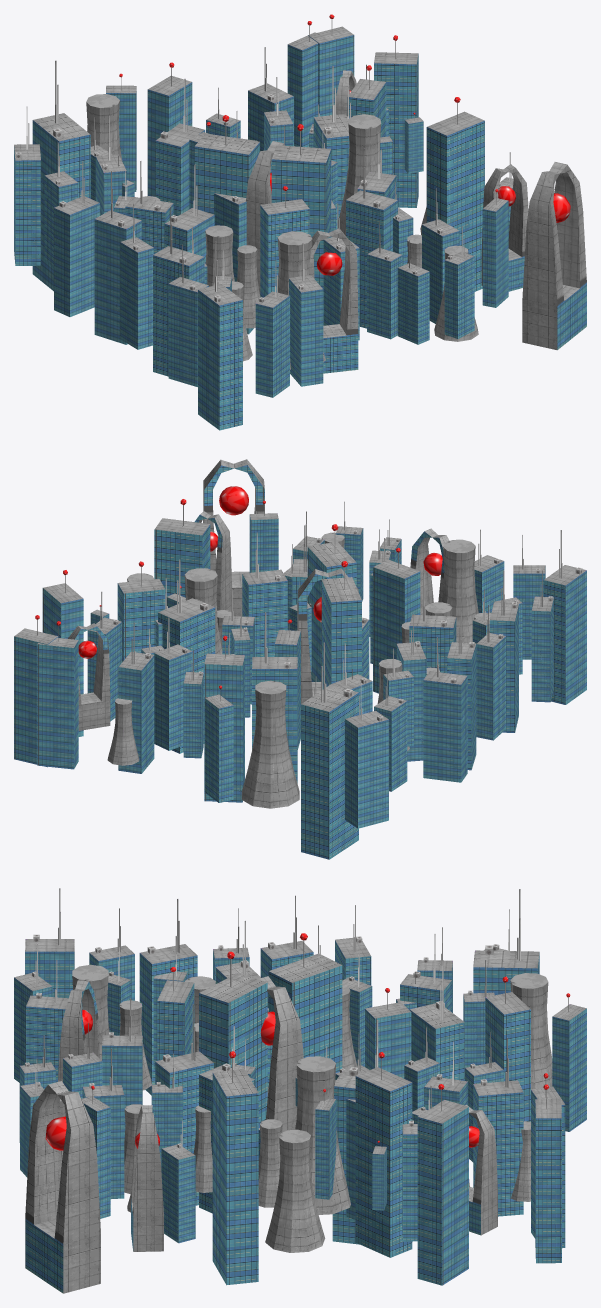
File: Cluster_1.fbx
3 renders of one model, top to bottom at view 1: azimuth 30°, elevation 25°; view 2: azimuth 150°, elevation 25°; view 3: azimuth 270°, elevation 25°, orthographic. The views are drawn at different scales.
Parts seen in each view (by area): view 1: pCube2Shape_MASH1_Instancer_79, polySurface11Shape_MASH1_Instancer_58, polySurface10Shape_MASH1_Instancer_70, polySurface10Shape_MASH1_Instancer_20, polySurface11Shape_MASH1_Instancer_54, polySurface10Shape_MASH1_Instancer_1, polySurface11Shape_MASH1_Instancer_29, polySurface10Shape_MASH1_Instancer_30, pCube2Shape_MASH1_Instancer_74, polySurface11Shape_MASH1_Instancer_43, polySurface10Shape_MASH1_Instancer_72, polySurface10Shape_MASH1_Instancer_40 (+39 smaller); view 2: polySurface10Shape_MASH1_Instancer_1, polySurface11Shape_MASH1_Instancer_8, polySurfaceShape12_MASH1_Instancer_3, polySurface10Shape_MASH1_Instancer_0, polySurface10Shape_MASH1_Instancer_20, polySurface10Shape_MASH1_Instancer_70, polySurface11Shape_MASH1_Instancer_43, polySurface11Shape_MASH1_Instancer_63, polySurface11Shape_MASH1_Instancer_58, polySurface11Shape_MASH1_Instancer_9, polySurface10Shape_MASH1_Instancer_6, polySurface10Shape_MASH1_Instancer_16 (+35 smaller); view 3: pCube2Shape_MASH1_Instancer_79, polySurface11Shape_MASH1_Instancer_58, polySurface11Shape_MASH1_Instancer_29, polySurface11Shape_MASH1_Instancer_38, polySurface11Shape_MASH1_Instancer_54, polySurface11Shape_MASH1_Instancer_43, polySurfaceShape12_MASH1_Instancer_49, polySurface11Shape_MASH1_Instancer_9, polySurface10Shape_MASH1_Instancer_6, pCube2Shape_MASH1_Instancer_44, pCube2Shape_MASH1_Instancer_69, polySurface11Shape_MASH1_Instancer_14 (+50 smaller).
Boxes of the visible parts, box(x1,y1,x2,y2) form: pCube2Shape_MASH1_Instancer_79: box(522, 162, 586, 350); polySurface11Shape_MASH1_Instancer_58: box(426, 97, 484, 291); polySurface10Shape_MASH1_Instancer_70: box(198, 241, 242, 430); polySurface10Shape_MASH1_Instancer_20: box(54, 161, 99, 316); polySurface11Shape_MASH1_Instancer_54: box(271, 124, 331, 325); polySurface10Shape_MASH1_Instancer_1: box(32, 60, 90, 291); polySurface11Shape_MASH1_Instancer_29: box(374, 35, 418, 207); polySurface10Shape_MASH1_Instancer_30: box(94, 171, 141, 344); pCube2Shape_MASH1_Instancer_74: box(309, 228, 358, 373); polySurface11Shape_MASH1_Instancer_43: box(194, 115, 259, 334); polySurface10Shape_MASH1_Instancer_72: box(289, 242, 323, 386); polySurface10Shape_MASH1_Instancer_40: box(120, 203, 153, 349); polySurface10Shape_MASH1_Instancer_1: box(301, 642, 358, 859); polySurface11Shape_MASH1_Instancer_8: box(37, 621, 78, 769); polySurfaceShape12_MASH1_Instancer_3: box(241, 680, 299, 808); polySurface10Shape_MASH1_Instancer_0: box(345, 680, 388, 828); polySurface10Shape_MASH1_Instancer_20: box(423, 637, 467, 782); polySurface10Shape_MASH1_Instancer_70: box(543, 530, 586, 704); polySurface11Shape_MASH1_Instancer_43: box(321, 561, 361, 689); polySurface11Shape_MASH1_Instancer_63: box(373, 547, 420, 693); polySurface11Shape_MASH1_Instancer_58: box(154, 499, 210, 597); polySurface11Shape_MASH1_Instancer_9: box(14, 615, 58, 767); polySurface10Shape_MASH1_Instancer_6: box(118, 622, 154, 773); polySurface10Shape_MASH1_Instancer_16: box(154, 617, 192, 750); pCube2Shape_MASH1_Instancer_79: box(25, 1081, 100, 1293); polySurface11Shape_MASH1_Instancer_58: box(212, 1051, 258, 1285); polySurface11Shape_MASH1_Instancer_29: box(417, 1084, 468, 1285); polySurface11Shape_MASH1_Instancer_38: box(355, 1052, 412, 1257); polySurface11Shape_MASH1_Instancer_54: box(199, 951, 267, 1127); polySurface11Shape_MASH1_Instancer_43: box(268, 933, 342, 1072); polySurfaceShape12_MASH1_Instancer_49: box(265, 1129, 325, 1252); polySurface11Shape_MASH1_Instancer_9: box(535, 1084, 561, 1263); polySurface10Shape_MASH1_Instancer_6: box(473, 1037, 523, 1216); pCube2Shape_MASH1_Instancer_44: box(257, 976, 303, 1160); pCube2Shape_MASH1_Instancer_69: box(131, 1105, 163, 1251); polySurface11Shape_MASH1_Instancer_14: box(485, 976, 530, 1121).
Bounding box in the file's own units: 116 × 60.16 × 127.
